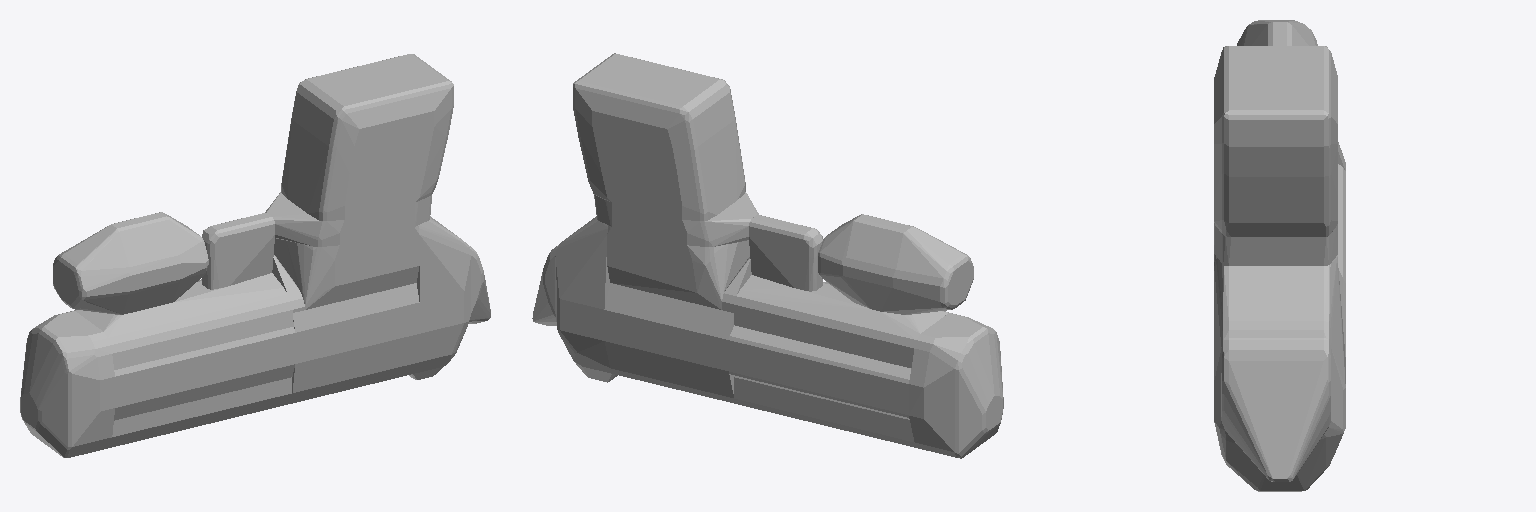
URDF robot description (root):
<robot name="root">
  <link name="link_coacd_convex_piece_0">
    <inertial>
      <origin xyz="0 0 0" rpy="0 0 0"/>
      <inertia ixx="1.48E-03" ixy="1.76E-05" ixz="-3.28E-05" iyy="1.55E-03" iyz="5.51E-04" izz="1.08E-04"/>
    </inertial>
    <visual>
      <origin xyz="0 0 0" rpy="0 0 0"/>
      <geometry>
        <mesh filename="coacd_convex_piece_0.obj" scale="1.0000E+00 1.0000E+00 1.0000E+00"/>
      </geometry>
      <material name="">
        <color rgba="7.50E-01 7.50E-01 7.50E-01 1"/>
      </material>
    </visual>
    <collision>
      <origin xyz="0 0 0" rpy="0 0 0"/>
      <geometry>
        <mesh filename="coacd_convex_piece_0.obj" scale="1.0000E+00 1.0000E+00 1.0000E+00"/>
      </geometry>
    </collision>
  </link>
  <link name="link_coacd_convex_piece_1">
    <inertial>
      <origin xyz="0 0 0" rpy="0 0 0"/>
      <inertia ixx="1.46E-02" ixy="1.84E-04" ixz="-1.72E-04" iyy="9.02E-03" iyz="7.51E-03" izz="6.41E-03"/>
    </inertial>
    <visual>
      <origin xyz="0 0 0" rpy="0 0 0"/>
      <geometry>
        <mesh filename="coacd_convex_piece_1.obj" scale="1.0000E+00 1.0000E+00 1.0000E+00"/>
      </geometry>
      <material name="">
        <color rgba="7.50E-01 7.50E-01 7.50E-01 1"/>
      </material>
    </visual>
    <collision>
      <origin xyz="0 0 0" rpy="0 0 0"/>
      <geometry>
        <mesh filename="coacd_convex_piece_1.obj" scale="1.0000E+00 1.0000E+00 1.0000E+00"/>
      </geometry>
    </collision>
  </link>
  <joint name="link_coacd_convex_piece_1_joint" type="fixed">
    <origin xyz="0 0 0" rpy="0 0 0"/>
    <parent link="link_coacd_convex_piece_0"/>
    <child link="link_coacd_convex_piece_1"/>
  </joint>
  <link name="link_coacd_convex_piece_2">
    <inertial>
      <origin xyz="0 0 0" rpy="0 0 0"/>
      <inertia ixx="-1.91E-06" ixy="1.40E-06" ixz="1.01E-06" iyy="1.94E-05" iyz="1.45E-05" izz="-1.87E-05"/>
    </inertial>
    <visual>
      <origin xyz="0 0 0" rpy="0 0 0"/>
      <geometry>
        <mesh filename="coacd_convex_piece_2.obj" scale="1.0000E+00 1.0000E+00 1.0000E+00"/>
      </geometry>
      <material name="">
        <color rgba="7.50E-01 7.50E-01 7.50E-01 1"/>
      </material>
    </visual>
    <collision>
      <origin xyz="0 0 0" rpy="0 0 0"/>
      <geometry>
        <mesh filename="coacd_convex_piece_2.obj" scale="1.0000E+00 1.0000E+00 1.0000E+00"/>
      </geometry>
    </collision>
  </link>
  <joint name="link_coacd_convex_piece_2_joint" type="fixed">
    <origin xyz="0 0 0" rpy="0 0 0"/>
    <parent link="link_coacd_convex_piece_1"/>
    <child link="link_coacd_convex_piece_2"/>
  </joint>
  <link name="link_coacd_convex_piece_3">
    <inertial>
      <origin xyz="0 0 0" rpy="0 0 0"/>
      <inertia ixx="4.62E-03" ixy="1.19E-05" ixz="3.33E-05" iyy="4.67E-03" iyz="-6.42E-04" izz="5.54E-05"/>
    </inertial>
    <visual>
      <origin xyz="0 0 0" rpy="0 0 0"/>
      <geometry>
        <mesh filename="coacd_convex_piece_3.obj" scale="1.0000E+00 1.0000E+00 1.0000E+00"/>
      </geometry>
      <material name="">
        <color rgba="7.50E-01 7.50E-01 7.50E-01 1"/>
      </material>
    </visual>
    <collision>
      <origin xyz="0 0 0" rpy="0 0 0"/>
      <geometry>
        <mesh filename="coacd_convex_piece_3.obj" scale="1.0000E+00 1.0000E+00 1.0000E+00"/>
      </geometry>
    </collision>
  </link>
  <joint name="link_coacd_convex_piece_3_joint" type="fixed">
    <origin xyz="0 0 0" rpy="0 0 0"/>
    <parent link="link_coacd_convex_piece_2"/>
    <child link="link_coacd_convex_piece_3"/>
  </joint>
  <link name="link_coacd_convex_piece_4">
    <inertial>
      <origin xyz="0 0 0" rpy="0 0 0"/>
      <inertia ixx="3.48E-03" ixy="-6.20E-06" ixz="-2.63E-05" iyy="3.16E-03" iyz="-1.03E-03" izz="3.62E-04"/>
    </inertial>
    <visual>
      <origin xyz="0 0 0" rpy="0 0 0"/>
      <geometry>
        <mesh filename="coacd_convex_piece_4.obj" scale="1.0000E+00 1.0000E+00 1.0000E+00"/>
      </geometry>
      <material name="">
        <color rgba="7.50E-01 7.50E-01 7.50E-01 1"/>
      </material>
    </visual>
    <collision>
      <origin xyz="0 0 0" rpy="0 0 0"/>
      <geometry>
        <mesh filename="coacd_convex_piece_4.obj" scale="1.0000E+00 1.0000E+00 1.0000E+00"/>
      </geometry>
    </collision>
  </link>
  <joint name="link_coacd_convex_piece_4_joint" type="fixed">
    <origin xyz="0 0 0" rpy="0 0 0"/>
    <parent link="link_coacd_convex_piece_3"/>
    <child link="link_coacd_convex_piece_4"/>
  </joint>
  <link name="link_coacd_convex_piece_5">
    <inertial>
      <origin xyz="0 0 0" rpy="0 0 0"/>
      <inertia ixx="1.28E-02" ixy="-1.07E-06" ixz="-5.28E-05" iyy="1.11E-02" iyz="-3.96E-03" izz="2.18E-03"/>
    </inertial>
    <visual>
      <origin xyz="0 0 0" rpy="0 0 0"/>
      <geometry>
        <mesh filename="coacd_convex_piece_5.obj" scale="1.0000E+00 1.0000E+00 1.0000E+00"/>
      </geometry>
      <material name="">
        <color rgba="7.50E-01 7.50E-01 7.50E-01 1"/>
      </material>
    </visual>
    <collision>
      <origin xyz="0 0 0" rpy="0 0 0"/>
      <geometry>
        <mesh filename="coacd_convex_piece_5.obj" scale="1.0000E+00 1.0000E+00 1.0000E+00"/>
      </geometry>
    </collision>
  </link>
  <joint name="link_coacd_convex_piece_5_joint" type="fixed">
    <origin xyz="0 0 0" rpy="0 0 0"/>
    <parent link="link_coacd_convex_piece_4"/>
    <child link="link_coacd_convex_piece_5"/>
  </joint>
  <link name="link_coacd_convex_piece_6">
    <inertial>
      <origin xyz="0 0 0" rpy="0 0 0"/>
      <inertia ixx="8.34E-03" ixy="-1.78E-05" ixz="-1.93E-05" iyy="4.39E-03" iyz="-3.53E-03" izz="4.71E-03"/>
    </inertial>
    <visual>
      <origin xyz="0 0 0" rpy="0 0 0"/>
      <geometry>
        <mesh filename="coacd_convex_piece_6.obj" scale="1.0000E+00 1.0000E+00 1.0000E+00"/>
      </geometry>
      <material name="">
        <color rgba="7.50E-01 7.50E-01 7.50E-01 1"/>
      </material>
    </visual>
    <collision>
      <origin xyz="0 0 0" rpy="0 0 0"/>
      <geometry>
        <mesh filename="coacd_convex_piece_6.obj" scale="1.0000E+00 1.0000E+00 1.0000E+00"/>
      </geometry>
    </collision>
  </link>
  <joint name="link_coacd_convex_piece_6_joint" type="fixed">
    <origin xyz="0 0 0" rpy="0 0 0"/>
    <parent link="link_coacd_convex_piece_5"/>
    <child link="link_coacd_convex_piece_6"/>
  </joint>
  <link name="link_coacd_convex_piece_7">
    <inertial>
      <origin xyz="0 0 0" rpy="0 0 0"/>
      <inertia ixx="2.66E-03" ixy="-1.40E-05" ixz="5.32E-05" iyy="2.66E-03" iyz="9.78E-04" izz="2.38E-04"/>
    </inertial>
    <visual>
      <origin xyz="0 0 0" rpy="0 0 0"/>
      <geometry>
        <mesh filename="coacd_convex_piece_7.obj" scale="1.0000E+00 1.0000E+00 1.0000E+00"/>
      </geometry>
      <material name="">
        <color rgba="7.50E-01 7.50E-01 7.50E-01 1"/>
      </material>
    </visual>
    <collision>
      <origin xyz="0 0 0" rpy="0 0 0"/>
      <geometry>
        <mesh filename="coacd_convex_piece_7.obj" scale="1.0000E+00 1.0000E+00 1.0000E+00"/>
      </geometry>
    </collision>
  </link>
  <joint name="link_coacd_convex_piece_7_joint" type="fixed">
    <origin xyz="0 0 0" rpy="0 0 0"/>
    <parent link="link_coacd_convex_piece_6"/>
    <child link="link_coacd_convex_piece_7"/>
  </joint>
  <link name="link_coacd_convex_piece_8">
    <inertial>
      <origin xyz="0 0 0" rpy="0 0 0"/>
      <inertia ixx="1.32E-02" ixy="-1.94E-05" ixz="7.98E-05" iyy="1.15E-02" iyz="4.72E-03" izz="1.96E-03"/>
    </inertial>
    <visual>
      <origin xyz="0 0 0" rpy="0 0 0"/>
      <geometry>
        <mesh filename="coacd_convex_piece_8.obj" scale="1.0000E+00 1.0000E+00 1.0000E+00"/>
      </geometry>
      <material name="">
        <color rgba="7.50E-01 7.50E-01 7.50E-01 1"/>
      </material>
    </visual>
    <collision>
      <origin xyz="0 0 0" rpy="0 0 0"/>
      <geometry>
        <mesh filename="coacd_convex_piece_8.obj" scale="1.0000E+00 1.0000E+00 1.0000E+00"/>
      </geometry>
    </collision>
  </link>
  <joint name="link_coacd_convex_piece_8_joint" type="fixed">
    <origin xyz="0 0 0" rpy="0 0 0"/>
    <parent link="link_coacd_convex_piece_7"/>
    <child link="link_coacd_convex_piece_8"/>
  </joint>
  <link name="link_coacd_convex_piece_9">
    <inertial>
      <origin xyz="0 0 0" rpy="0 0 0"/>
      <inertia ixx="2.32E-03" ixy="3.23E-06" ixz="-6.05E-05" iyy="2.69E-03" iyz="-6.02E-05" izz="2.61E-05"/>
    </inertial>
    <visual>
      <origin xyz="0 0 0" rpy="0 0 0"/>
      <geometry>
        <mesh filename="coacd_convex_piece_9.obj" scale="1.0000E+00 1.0000E+00 1.0000E+00"/>
      </geometry>
      <material name="">
        <color rgba="7.50E-01 7.50E-01 7.50E-01 1"/>
      </material>
    </visual>
    <collision>
      <origin xyz="0 0 0" rpy="0 0 0"/>
      <geometry>
        <mesh filename="coacd_convex_piece_9.obj" scale="1.0000E+00 1.0000E+00 1.0000E+00"/>
      </geometry>
    </collision>
  </link>
  <joint name="link_coacd_convex_piece_9_joint" type="fixed">
    <origin xyz="0 0 0" rpy="0 0 0"/>
    <parent link="link_coacd_convex_piece_8"/>
    <child link="link_coacd_convex_piece_9"/>
  </joint>
  <link name="link_coacd_convex_piece_10">
    <inertial>
      <origin xyz="0 0 0" rpy="0 0 0"/>
      <inertia ixx="-5.09E-06" ixy="2.08E-08" ixz="1.11E-07" iyy="2.94E-06" iyz="3.16E-06" izz="2.51E-06"/>
    </inertial>
    <visual>
      <origin xyz="0 0 0" rpy="0 0 0"/>
      <geometry>
        <mesh filename="coacd_convex_piece_10.obj" scale="1.0000E+00 1.0000E+00 1.0000E+00"/>
      </geometry>
      <material name="">
        <color rgba="7.50E-01 7.50E-01 7.50E-01 1"/>
      </material>
    </visual>
    <collision>
      <origin xyz="0 0 0" rpy="0 0 0"/>
      <geometry>
        <mesh filename="coacd_convex_piece_10.obj" scale="1.0000E+00 1.0000E+00 1.0000E+00"/>
      </geometry>
    </collision>
  </link>
  <joint name="link_coacd_convex_piece_10_joint" type="fixed">
    <origin xyz="0 0 0" rpy="0 0 0"/>
    <parent link="link_coacd_convex_piece_9"/>
    <child link="link_coacd_convex_piece_10"/>
  </joint>
  <link name="link_coacd_convex_piece_11">
    <inertial>
      <origin xyz="0 0 0" rpy="0 0 0"/>
      <inertia ixx="5.72E-03" ixy="-5.48E-05" ixz="5.09E-05" iyy="2.48E-03" iyz="2.65E-03" izz="3.47E-03"/>
    </inertial>
    <visual>
      <origin xyz="0 0 0" rpy="0 0 0"/>
      <geometry>
        <mesh filename="coacd_convex_piece_11.obj" scale="1.0000E+00 1.0000E+00 1.0000E+00"/>
      </geometry>
      <material name="">
        <color rgba="7.50E-01 7.50E-01 7.50E-01 1"/>
      </material>
    </visual>
    <collision>
      <origin xyz="0 0 0" rpy="0 0 0"/>
      <geometry>
        <mesh filename="coacd_convex_piece_11.obj" scale="1.0000E+00 1.0000E+00 1.0000E+00"/>
      </geometry>
    </collision>
  </link>
  <joint name="link_coacd_convex_piece_11_joint" type="fixed">
    <origin xyz="0 0 0" rpy="0 0 0"/>
    <parent link="link_coacd_convex_piece_10"/>
    <child link="link_coacd_convex_piece_11"/>
  </joint>
  <link name="link_coacd_convex_piece_12">
    <inertial>
      <origin xyz="0 0 0" rpy="0 0 0"/>
      <inertia ixx="7.28E-03" ixy="6.63E-06" ixz="2.66E-05" iyy="4.99E-03" iyz="3.52E-03" izz="2.98E-03"/>
    </inertial>
    <visual>
      <origin xyz="0 0 0" rpy="0 0 0"/>
      <geometry>
        <mesh filename="coacd_convex_piece_12.obj" scale="1.0000E+00 1.0000E+00 1.0000E+00"/>
      </geometry>
      <material name="">
        <color rgba="7.50E-01 7.50E-01 7.50E-01 1"/>
      </material>
    </visual>
    <collision>
      <origin xyz="0 0 0" rpy="0 0 0"/>
      <geometry>
        <mesh filename="coacd_convex_piece_12.obj" scale="1.0000E+00 1.0000E+00 1.0000E+00"/>
      </geometry>
    </collision>
  </link>
  <joint name="link_coacd_convex_piece_12_joint" type="fixed">
    <origin xyz="0 0 0" rpy="0 0 0"/>
    <parent link="link_coacd_convex_piece_11"/>
    <child link="link_coacd_convex_piece_12"/>
  </joint>
</robot>

--- Render facts (derived) ---
3 views of the same robot in one strip: view 1: azimuth 30°, elevation 25°; view 2: azimuth 150°, elevation 25°; view 3: azimuth 270°, elevation 25° (orthographic).
Robot: root — 13 links, 12 joints (12 fixed); root link link_coacd_convex_piece_0; default pose: all joints at 0.
Visible links, largest first — view 1: link_coacd_convex_piece_1, link_coacd_convex_piece_3, link_coacd_convex_piece_8, link_coacd_convex_piece_6, link_coacd_convex_piece_7, link_coacd_convex_piece_12, link_coacd_convex_piece_9, link_coacd_convex_piece_5, link_coacd_convex_piece_11, link_coacd_convex_piece_0, link_coacd_convex_piece_2, link_coacd_convex_piece_4 (+1 smaller); view 2: link_coacd_convex_piece_1, link_coacd_convex_piece_3, link_coacd_convex_piece_6, link_coacd_convex_piece_8, link_coacd_convex_piece_7, link_coacd_convex_piece_12, link_coacd_convex_piece_9, link_coacd_convex_piece_5, link_coacd_convex_piece_11, link_coacd_convex_piece_0, link_coacd_convex_piece_2, link_coacd_convex_piece_4 (+1 smaller); view 3: link_coacd_convex_piece_1, link_coacd_convex_piece_5, link_coacd_convex_piece_4, link_coacd_convex_piece_0, link_coacd_convex_piece_3, link_coacd_convex_piece_12.
Link boxes in pixels (bbox=[...]): link_coacd_convex_piece_1: bbox=[281, 54, 453, 220]; link_coacd_convex_piece_3: bbox=[53, 212, 208, 314]; link_coacd_convex_piece_8: bbox=[20, 311, 114, 457]; link_coacd_convex_piece_6: bbox=[289, 283, 419, 403]; link_coacd_convex_piece_7: bbox=[74, 273, 293, 369]; link_coacd_convex_piece_12: bbox=[114, 327, 294, 420]; link_coacd_convex_piece_9: bbox=[274, 226, 419, 309]; link_coacd_convex_piece_5: bbox=[409, 216, 470, 379]; link_coacd_convex_piece_11: bbox=[109, 377, 291, 447]; link_coacd_convex_piece_0: bbox=[265, 192, 431, 246]; link_coacd_convex_piece_2: bbox=[202, 213, 274, 289]; link_coacd_convex_piece_4: bbox=[466, 243, 490, 323]; link_coacd_convex_piece_1: bbox=[573, 53, 745, 220]; link_coacd_convex_piece_3: bbox=[818, 214, 973, 314]; link_coacd_convex_piece_6: bbox=[604, 283, 735, 403]; link_coacd_convex_piece_8: bbox=[909, 313, 1003, 458]; link_coacd_convex_piece_7: bbox=[734, 275, 948, 367]; link_coacd_convex_piece_12: bbox=[729, 325, 910, 419]; link_coacd_convex_piece_9: bbox=[607, 225, 749, 309]; link_coacd_convex_piece_5: bbox=[555, 216, 617, 382]; link_coacd_convex_piece_11: bbox=[734, 377, 915, 447]; link_coacd_convex_piece_0: bbox=[594, 192, 758, 246]; link_coacd_convex_piece_2: bbox=[749, 215, 822, 291]; link_coacd_convex_piece_4: bbox=[532, 245, 558, 325]; link_coacd_convex_piece_1: bbox=[1214, 46, 1337, 236]; link_coacd_convex_piece_5: bbox=[1214, 258, 1345, 491]; link_coacd_convex_piece_4: bbox=[1221, 338, 1330, 481]; link_coacd_convex_piece_0: bbox=[1214, 223, 1337, 265]; link_coacd_convex_piece_3: bbox=[1237, 20, 1317, 45]; link_coacd_convex_piece_12: bbox=[1338, 164, 1345, 282].
Size in the robot's own frame: 1.77 by 0.3463 by 1.12 metres.
Meshes: 13 distinct files referenced, 13 mesh visuals loaded (13 OBJ).
